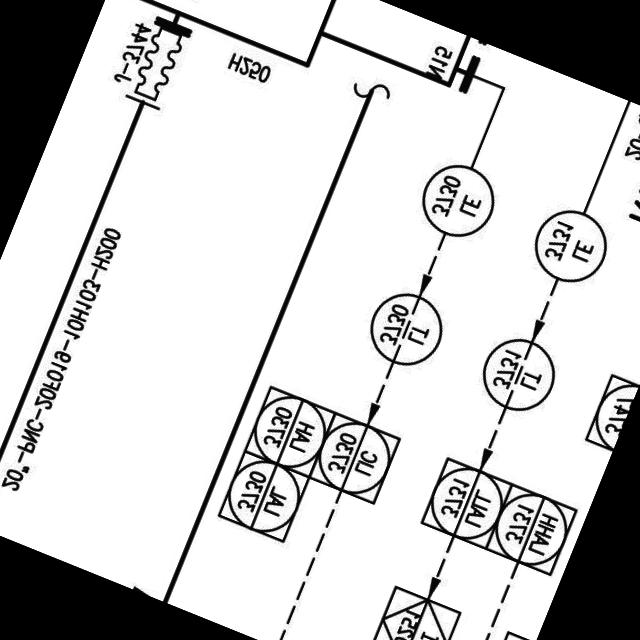EJ: (122, 20, 194, 119)
